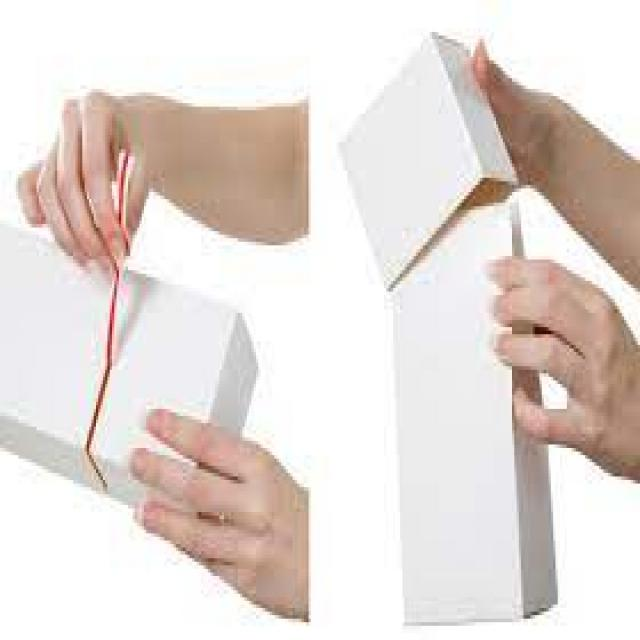tear: (84, 327, 116, 458)
